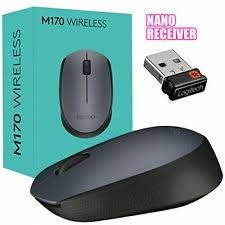mouse: (29, 126, 218, 216), (53, 46, 122, 142)
